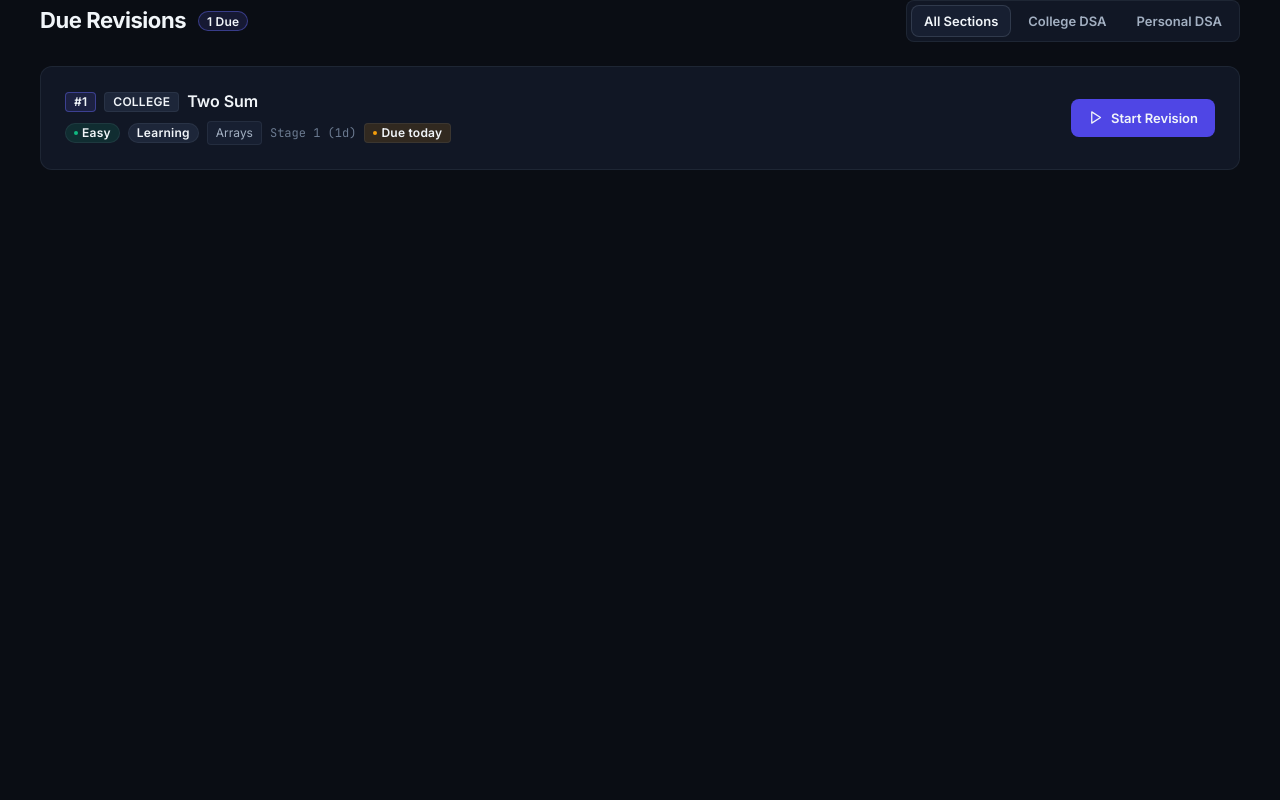
Test: Review flow — due queue and recall session › closes the recall session on Escape and returns focus to the Start Revision button
The width and height of the screenshot is (1280, 800).
Click the button "Start Revision" at (1143, 118), box x1=1071 y1=99 x2=1215 y2=137
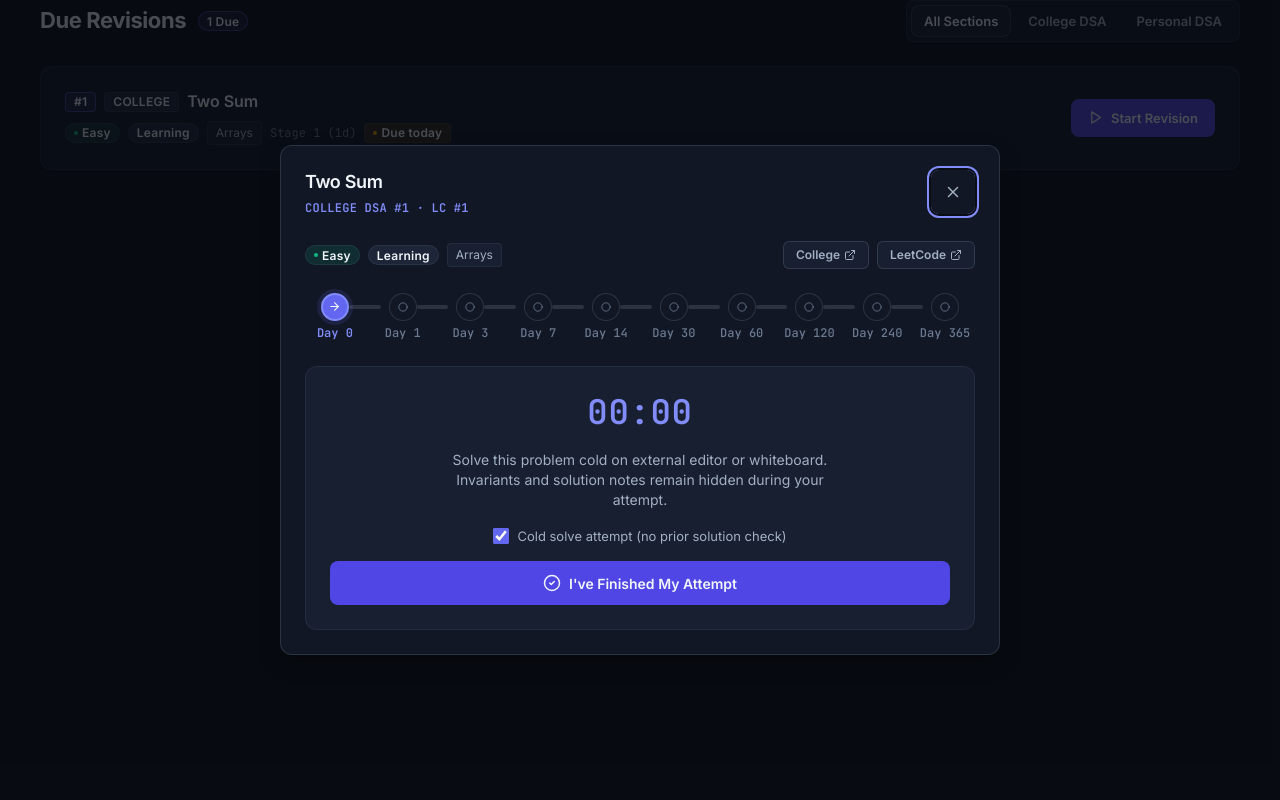
Expected: the dialog is shown, x1=280 y1=145 x2=1000 y2=655
Press Escape
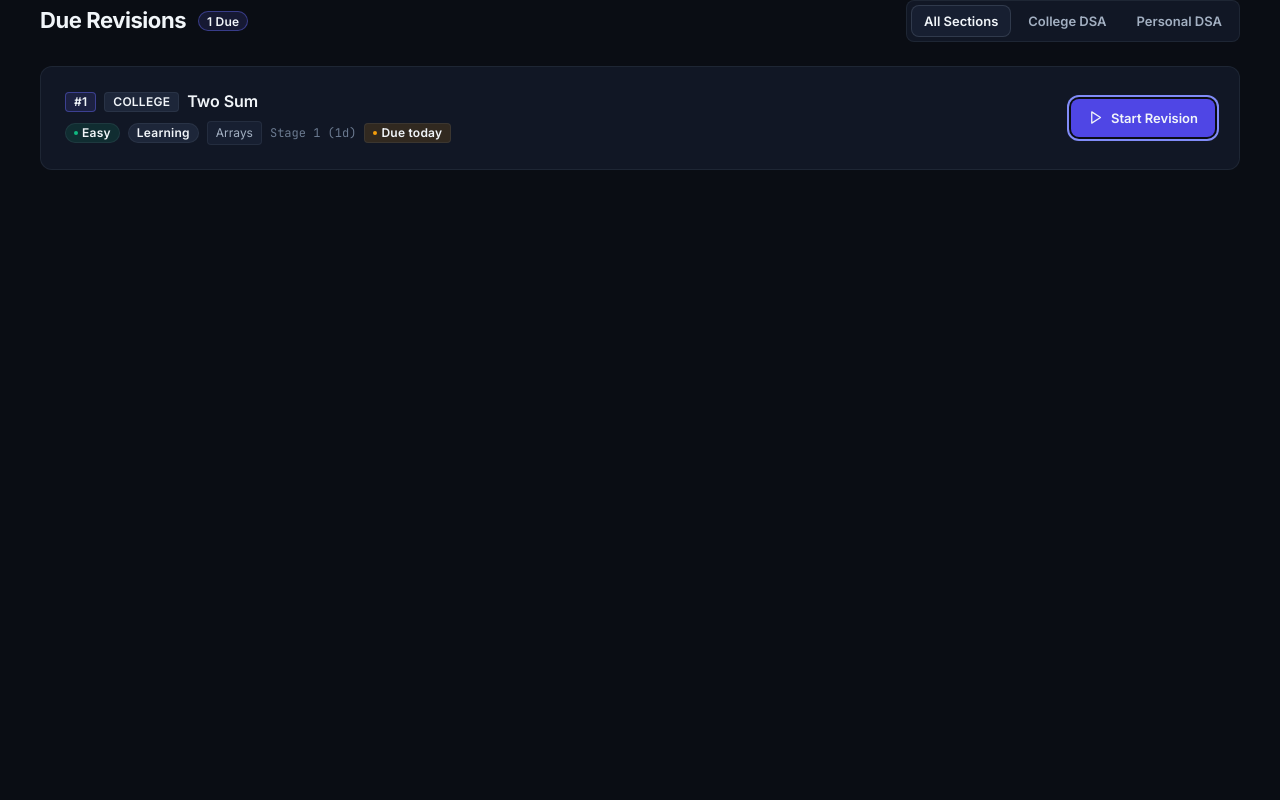
Expected: the dialog is gone
